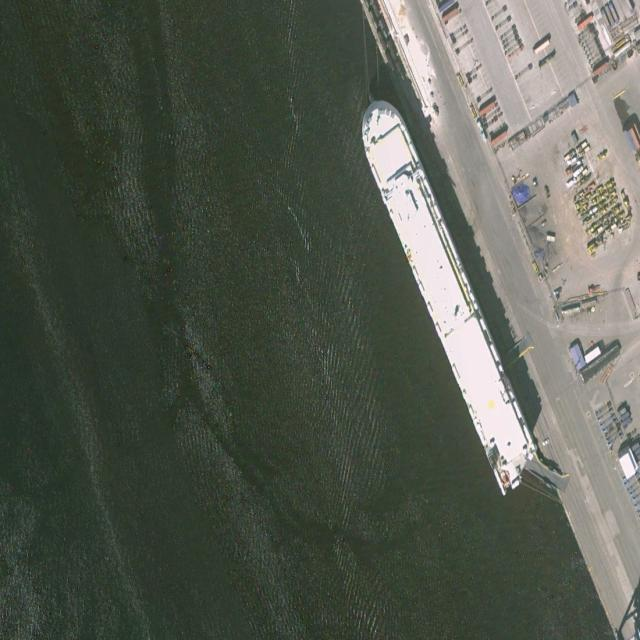RoRo: (351, 87, 545, 499)
